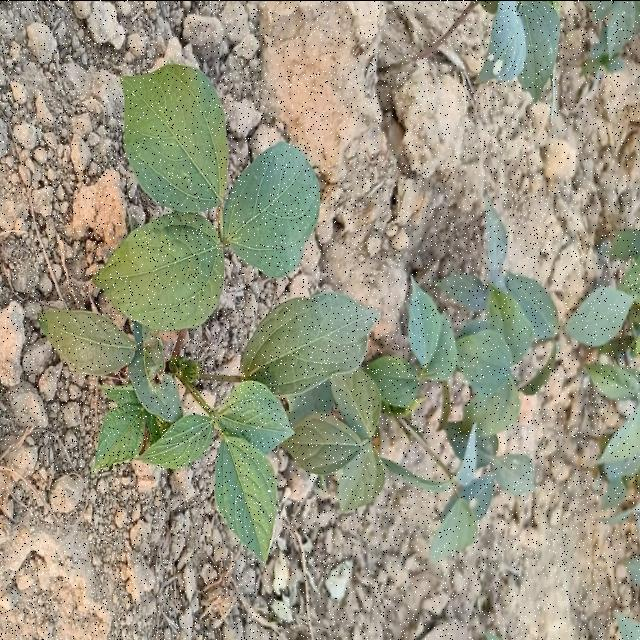plant: (39, 65, 559, 560), (565, 230, 640, 358)
